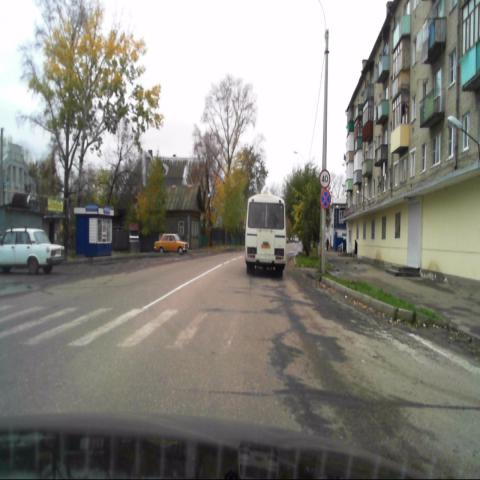3_24: (319, 169, 330, 189)
3_27: (319, 188, 331, 209)
